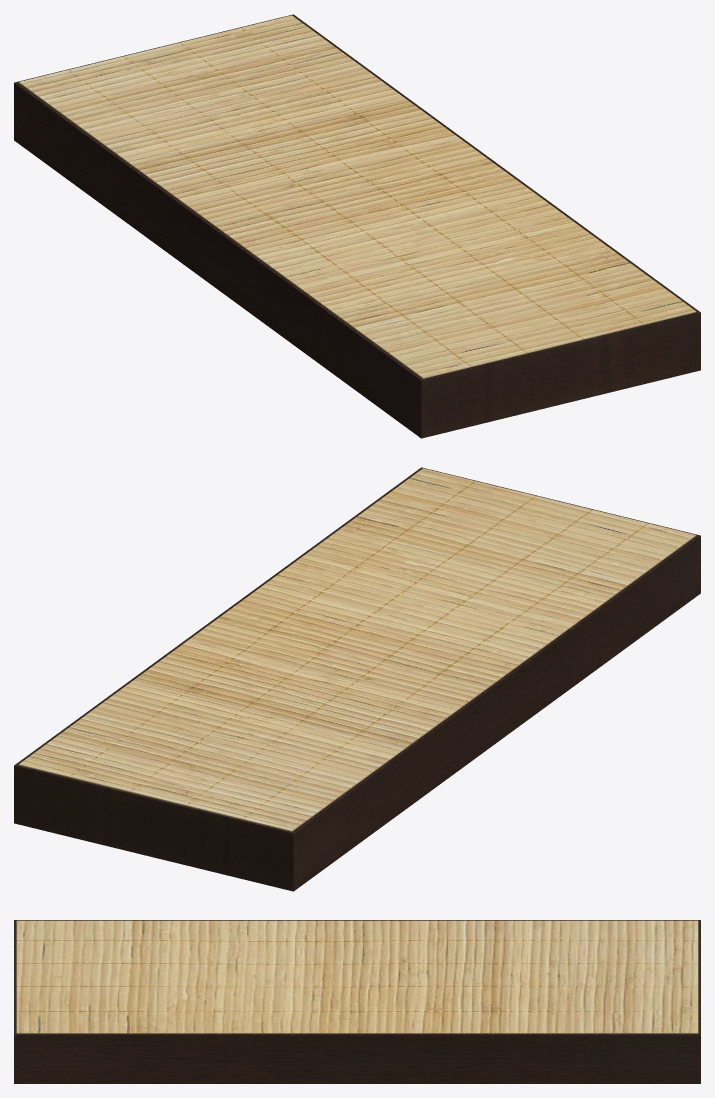
File: Wall table.FBX
3 views of the same model, one above another, from view 1: azimuth 30°, elevation 25°; view 2: azimuth 150°, elevation 25°; view 3: azimuth 270°, elevation 25° (orthographic). The views are drawn at different scales.
Visible parts, largest first — view 1: wall table; view 2: wall table; view 3: wall table.
Boxes of the visible parts, bbox=[...] form: wall table: bbox=[14, 14, 700, 438]; wall table: bbox=[14, 467, 700, 891]; wall table: bbox=[14, 920, 700, 1083].
Size of the model in its own units: 89.39 by 17.96 by 226.
2 materials, 2 textured.
